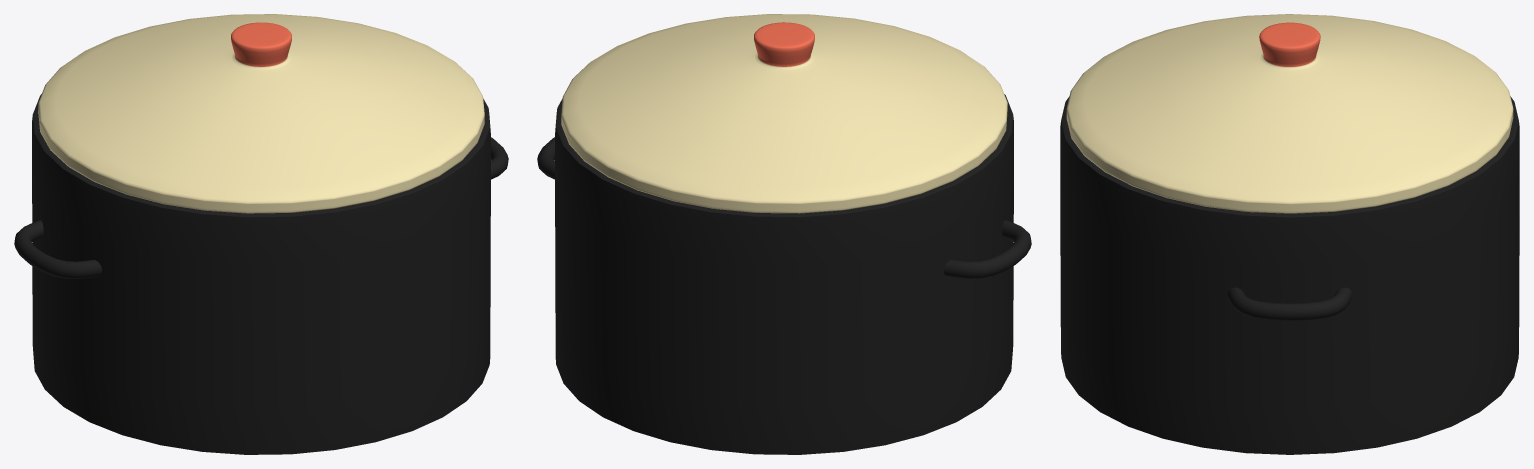
Rendered from HP_pot3.obj.
3 renders of one model, left to right at view 1: azimuth 30°, elevation 25°; view 2: azimuth 150°, elevation 25°; view 3: azimuth 270°, elevation 25°, orthographic.
Parts seen in each view (by area): view 1: HP_pot3.001, HP_pot3_lid.001; view 2: HP_pot3.001, HP_pot3_lid.001; view 3: HP_pot3.001, HP_pot3_lid.001.
Part boxes in pixels (x1=…): HP_pot3.001: x1=14, y1=94, x2=508, y2=454; HP_pot3_lid.001: x1=38, y1=14, x2=484, y2=213; HP_pot3.001: x1=537, y1=94, x2=1031, y2=454; HP_pot3_lid.001: x1=561, y1=14, x2=1007, y2=213; HP_pot3.001: x1=1060, y1=96, x2=1519, y2=454; HP_pot3_lid.001: x1=1066, y1=14, x2=1513, y2=213.
Bounding box in the file's own units: 0.2872 × 0.1897 × 0.2436.
